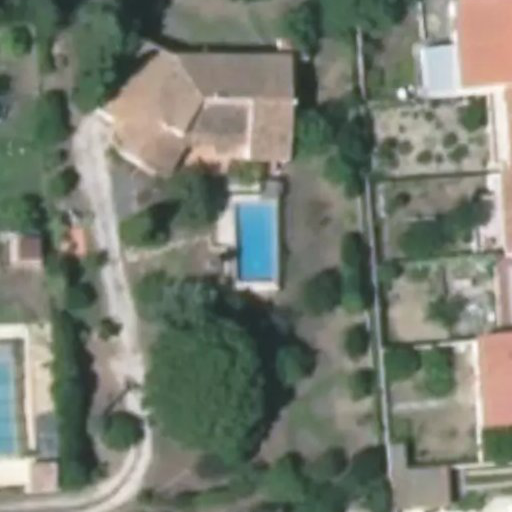pool: (234, 201, 277, 282)
